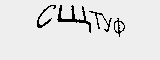Б: (121, 22, 137, 39)
Л: (33, 24, 60, 41)
Н: (103, 25, 121, 42)
П: (63, 24, 84, 42)
Х: (84, 26, 103, 43)
Ұ: (16, 24, 34, 38)
